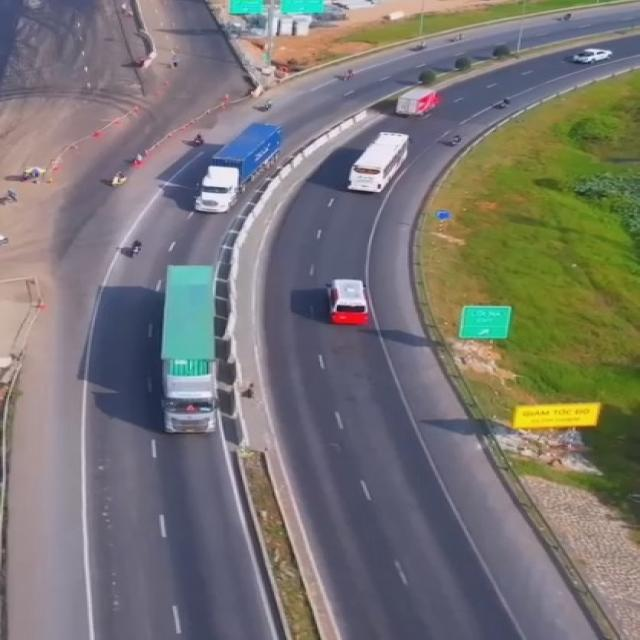bus: (346, 130, 408, 194), (326, 275, 372, 326)
car: (570, 46, 612, 66)
motorbike: (128, 240, 143, 255)
truck: (156, 263, 228, 433), (195, 122, 278, 213), (398, 85, 437, 119)
